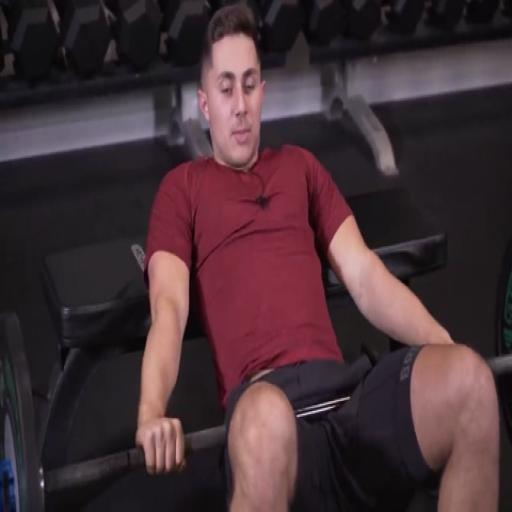exercise: (132, 3, 504, 510)
